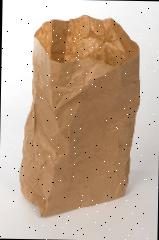paper: (18, 14, 142, 218)
